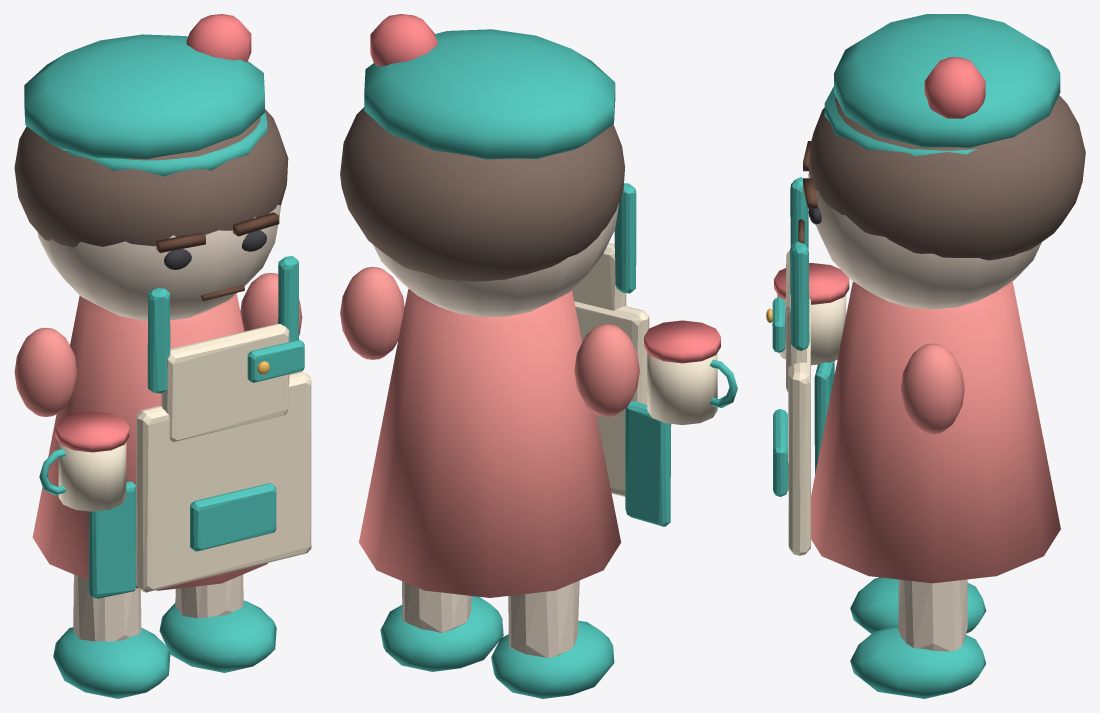
File: staff_xiaoman.glb
The picture shows the model from 3 angles, left to right: view 1: azimuth 30°, elevation 25°; view 2: azimuth 150°, elevation 25°; view 3: azimuth 270°, elevation 25°; orthographic projection. The views are drawn at different scales.
Parts seen in each view (by area): view 1: Staff_MintDetails, Staff_Apron, Body, Hair, Head, Staff_CoralDetails, Staff_CocoaDetails, Eyes; view 2: Body, Staff_MintDetails, Hair, Head, Staff_Apron, Staff_CoralDetails; view 3: Body, Staff_MintDetails, Hair, Head, Staff_Apron, Staff_CoralDetails, Staff_CocoaDetails.
Part boxes in pixels (bbox=[...]): Staff_MintDetails: bbox=[24, 34, 304, 698]; Staff_Apron: bbox=[58, 323, 311, 592]; Body: bbox=[14, 273, 302, 590]; Hair: bbox=[14, 109, 288, 247]; Head: bbox=[37, 205, 281, 641]; Staff_CoralDetails: bbox=[55, 14, 251, 452]; Staff_CocoaDetails: bbox=[156, 212, 279, 300]; Eyes: bbox=[164, 230, 266, 269]; Body: bbox=[340, 267, 639, 597]; Staff_MintDetails: bbox=[364, 29, 737, 698]; Hair: bbox=[340, 107, 624, 281]; Head: bbox=[373, 203, 619, 657]; Staff_Apron: bbox=[572, 243, 717, 496]; Staff_CoralDetails: bbox=[370, 14, 720, 363]; Body: bbox=[811, 281, 1060, 583]; Staff_MintDetails: bbox=[772, 14, 1060, 698]; Hair: bbox=[808, 95, 1085, 260]; Head: bbox=[808, 172, 1041, 651]; Staff_Apron: bbox=[777, 250, 846, 555]; Staff_CoralDetails: bbox=[774, 57, 985, 304]; Staff_CocoaDetails: bbox=[798, 141, 817, 243].
Size of the model in its own units: 0.467 by 0.8792 by 0.399.
